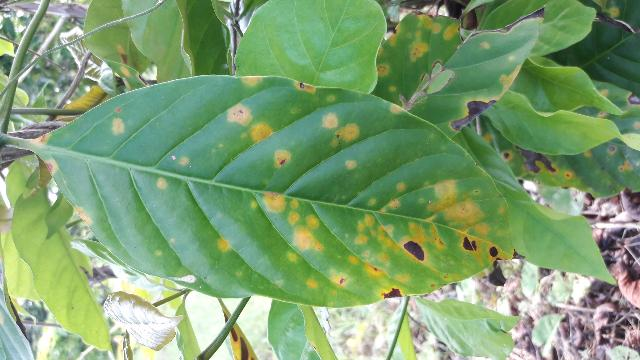rust_level_3: (25, 74, 523, 307)
